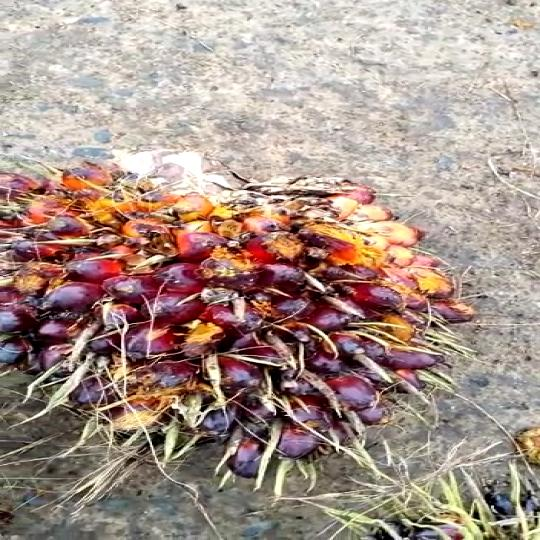masak: (0, 123, 490, 488)
